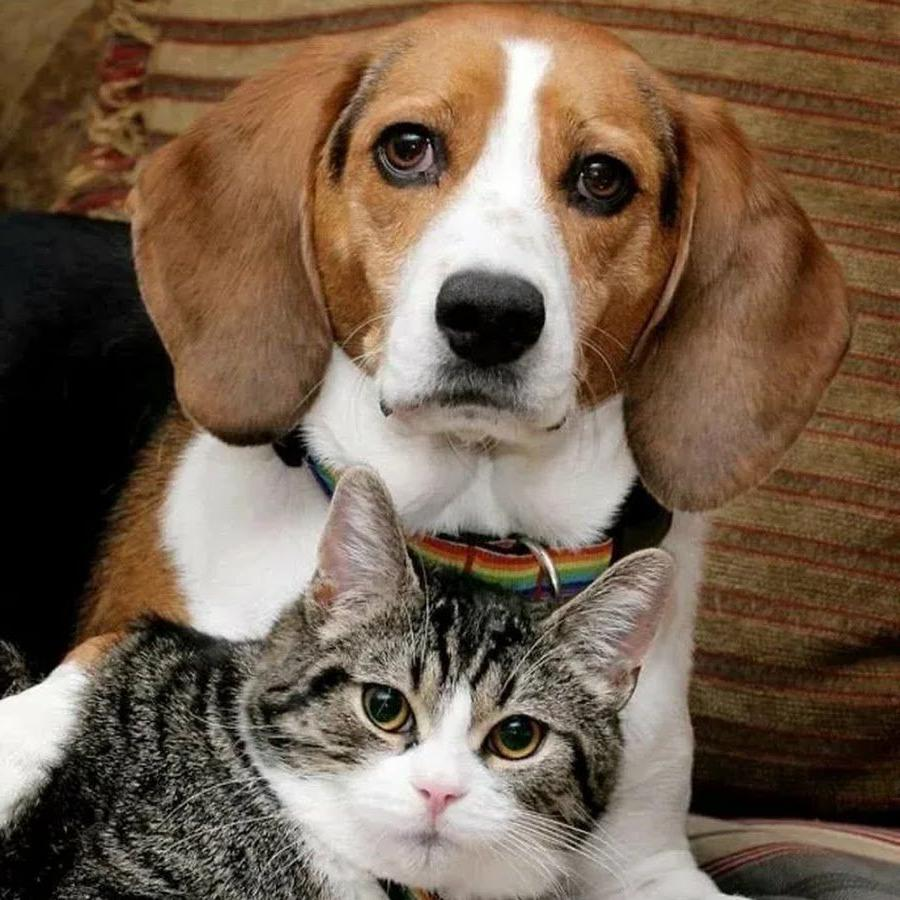animals: (134, 0, 849, 533), (0, 454, 707, 900)
